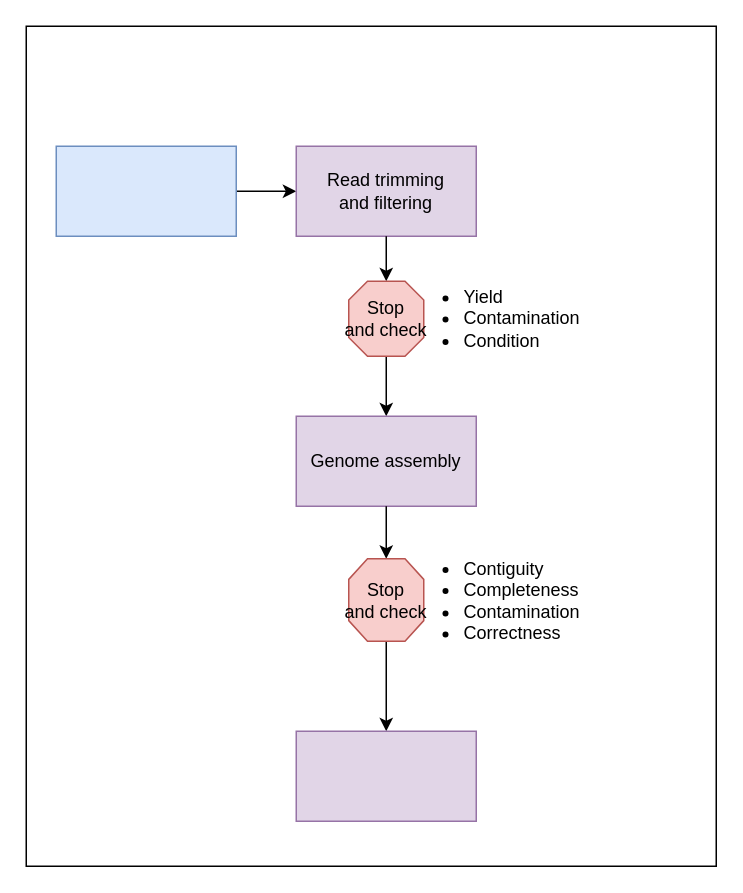
This 743x893 diagram has some shape labels left out. Each missing label, with the centre of its shape:
Downstream analysis: (x=385, y=775)
Sequenced reads: (x=145, y=190)
